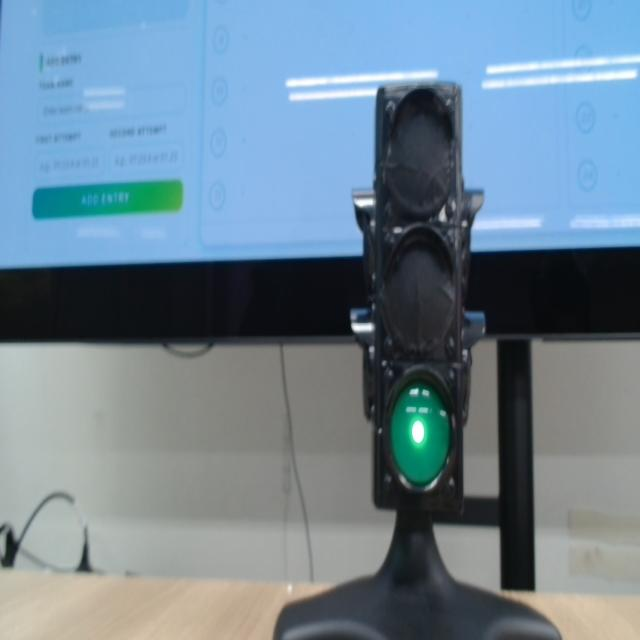green_light: (391, 381, 451, 486)
